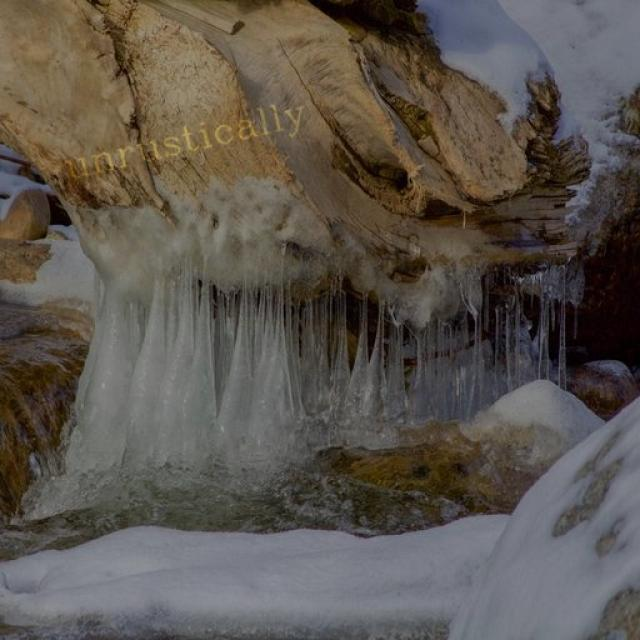watermark: (57, 96, 307, 186)
